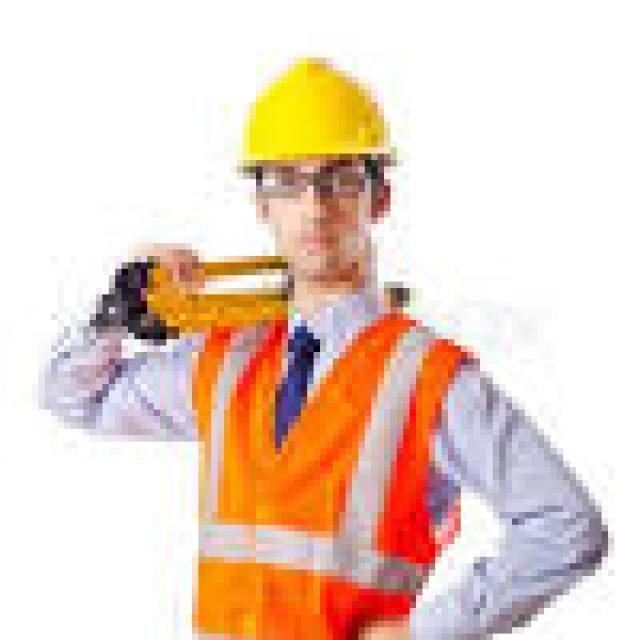Reflective-Jacket: (172, 294, 473, 634)
Safety-Helmet: (224, 51, 410, 186)
